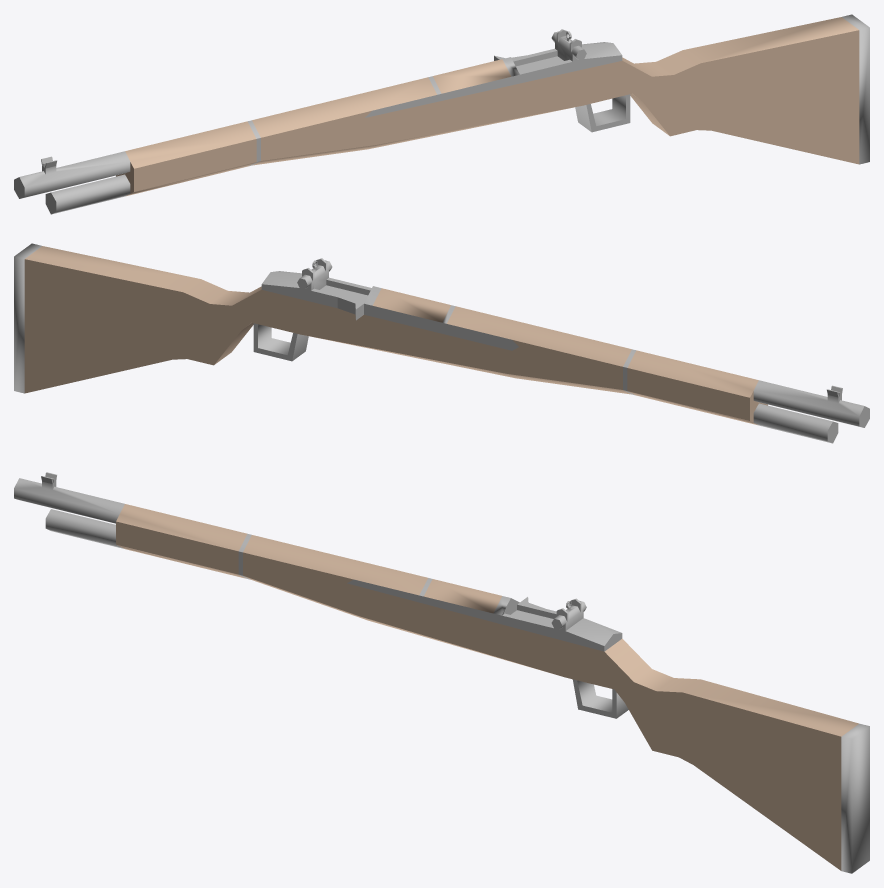
The model's file is Garand.fbx.
3 renders of one model, top to bottom at view 1: azimuth 30°, elevation 25°; view 2: azimuth 150°, elevation 25°; view 3: azimuth 330°, elevation 25°, orthographic.
Parts seen in each view (by area): view 1: Garand; view 2: Garand; view 3: Garand.
Part boxes in pixels (<box>): Garand: <box>14,14,869,214</box>; Garand: <box>14,243,869,443</box>; Garand: <box>14,472,869,873</box>.
Bounding box in the file's own units: 0.0483 × 0.796 × 0.1759.
